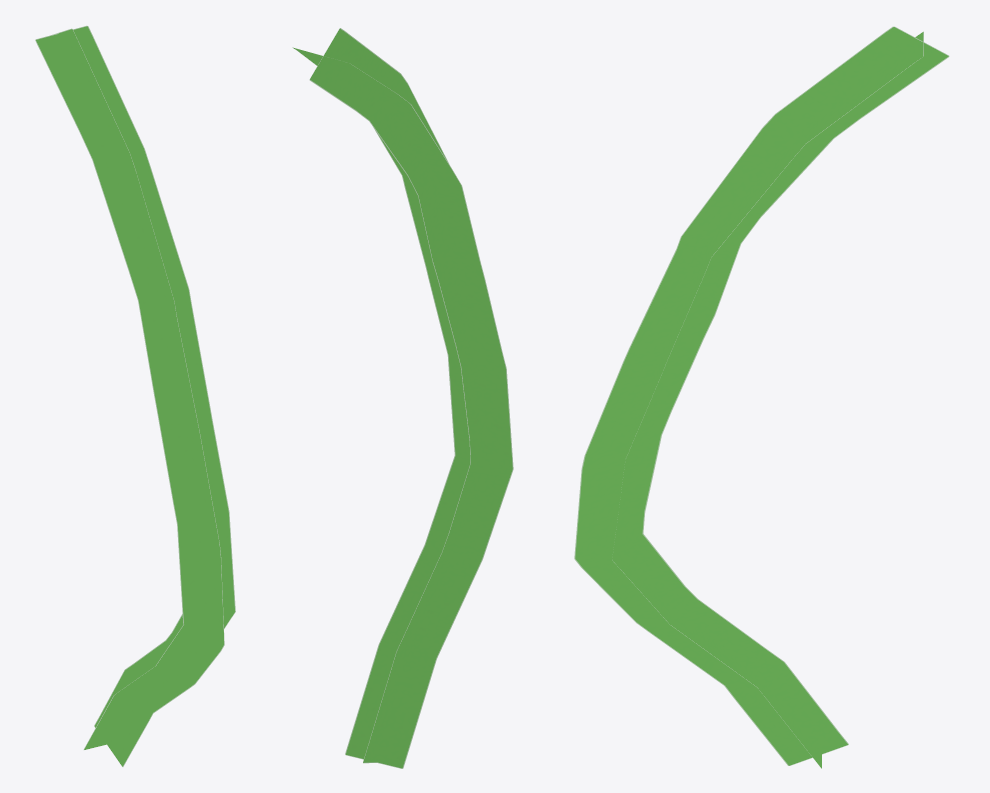
Rendered from TalloPlants_1.fbx.
The picture shows the model from 3 angles, left to right: view 1: azimuth 30°, elevation 25°; view 2: azimuth 150°, elevation 25°; view 3: azimuth 270°, elevation 25°; orthographic projection. The views are drawn at different scales.
Parts seen in each view (by area): view 1: TalloPlants_1; view 2: TalloPlants_1; view 3: TalloPlants_1.
Part boxes in pixels (x1,y1,x2,y2): TalloPlants_1: [35, 25, 235, 766]; TalloPlants_1: [292, 28, 513, 768]; TalloPlants_1: [574, 26, 949, 768].
Bounding box in the file's own units: 13.25 × 113 × 55.97.
